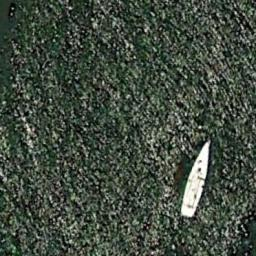boat: (178, 139, 211, 217)
